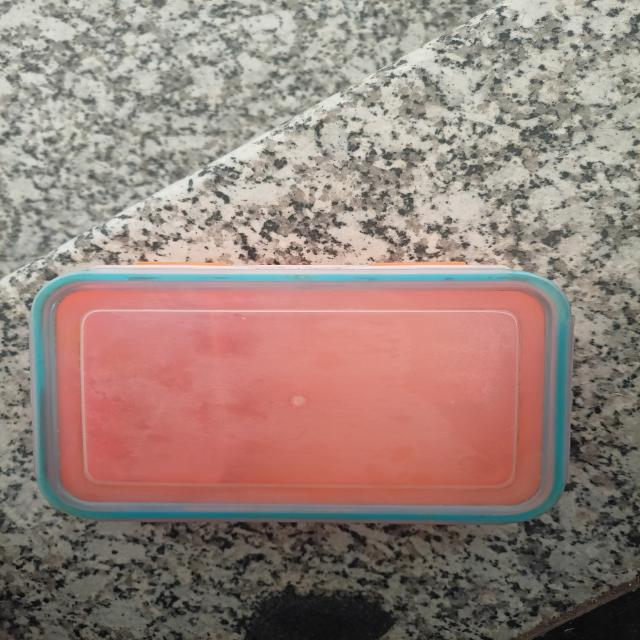plastic_box: (12, 252, 598, 541)
